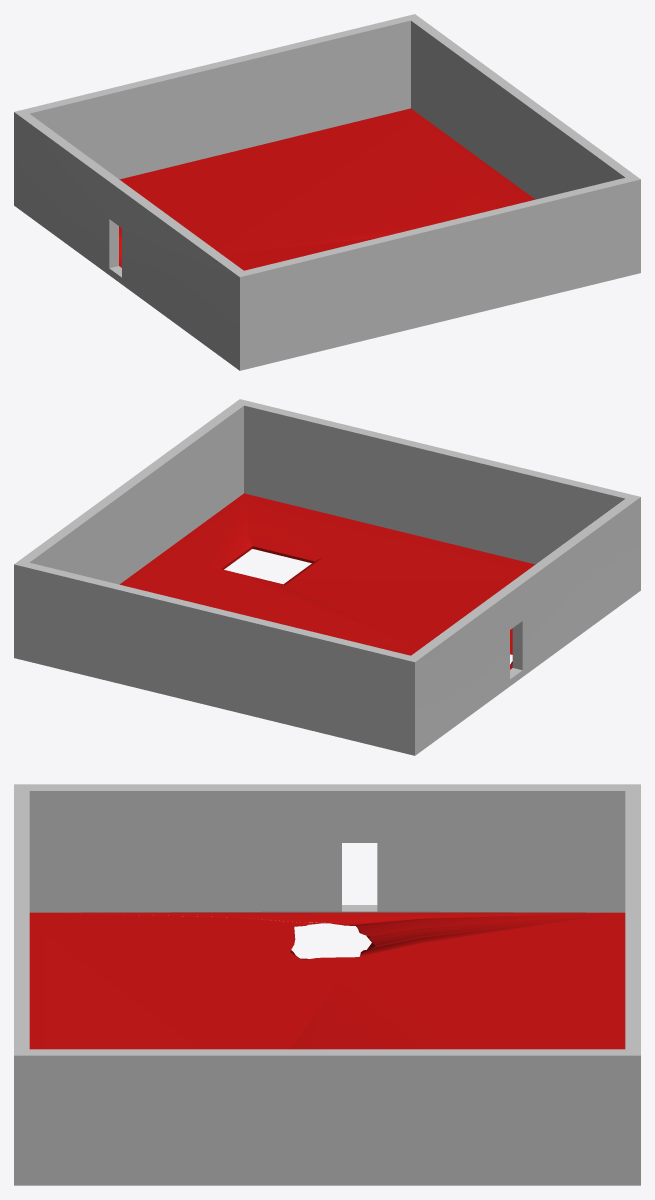
The model's file is FLOOR_2_0_1.fbx.
3 renders of one model, top to bottom at view 1: azimuth 30°, elevation 25°; view 2: azimuth 150°, elevation 25°; view 3: azimuth 270°, elevation 25°, orthographic. The views are drawn at different scales.
Visible parts, largest first — view 1: FLOOR_2_0_1_0; view 2: FLOOR_2_0_1_0; view 3: FLOOR_2_0_1_0.
Part boxes in pixels (box(x1,y1,x2,y2)): FLOOR_2_0_1_0: box(14, 14, 640, 370); FLOOR_2_0_1_0: box(14, 399, 640, 755); FLOOR_2_0_1_0: box(14, 784, 640, 1185).
Bounding box in the file's own units: 20.5 × 4.57 × 20.
